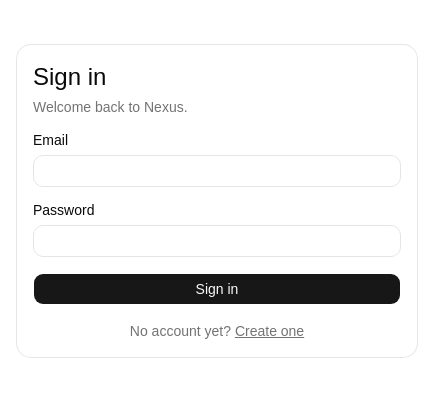
LoginPage › shows validation messages and sends nothing when the form is empty
This screenshot has width=435, height=403.
Step 1. Click the button "Sign in" → coordinates (217, 289), box left=33, top=273, right=401, bottom=305
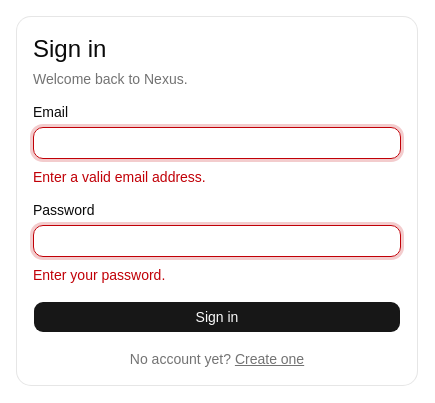
Check: the text "Enter a valid email address." is shown, box left=33, top=169, right=206, bottom=185
Check: the text "Enter your password." is shown, box left=33, top=267, right=165, bottom=283
